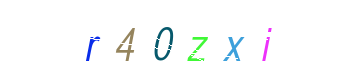0: (140, 0, 220, 80)
4: (103, 0, 183, 80)
I: (226, 0, 306, 80)
R: (87, 0, 167, 80)
X: (159, 0, 239, 80)
Z: (157, 0, 237, 80)
